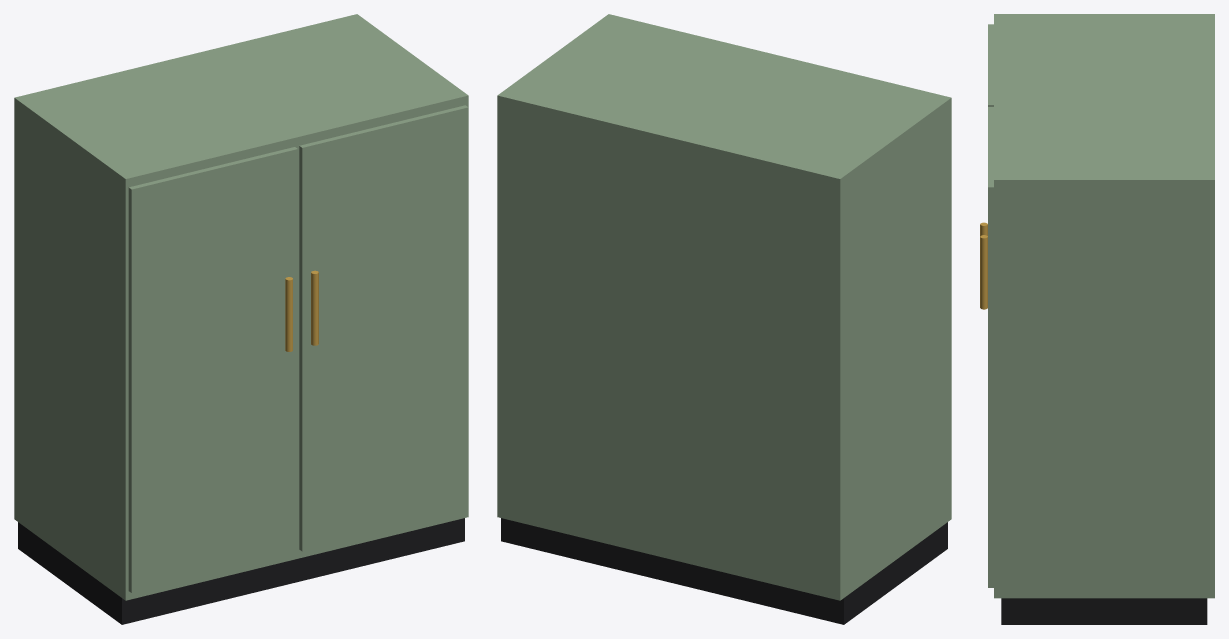
The model's file is storage-cabinet.glb.
The picture shows the model from 3 angles, left to right: view 1: azimuth 30°, elevation 25°; view 2: azimuth 150°, elevation 25°; view 3: azimuth 270°, elevation 25°; orthographic projection.
Parts seen in each view (by area): view 1: Storage cabinet; view 2: Storage cabinet; view 3: Storage cabinet.
Part boxes in pixels (x1=…): Storage cabinet: x1=14, y1=14, x2=468, y2=624; Storage cabinet: x1=497, y1=14, x2=951, y2=624; Storage cabinet: x1=980, y1=14, x2=1214, y2=624.
Bounding box in the file's own units: 0.8 × 1 × 0.478.
